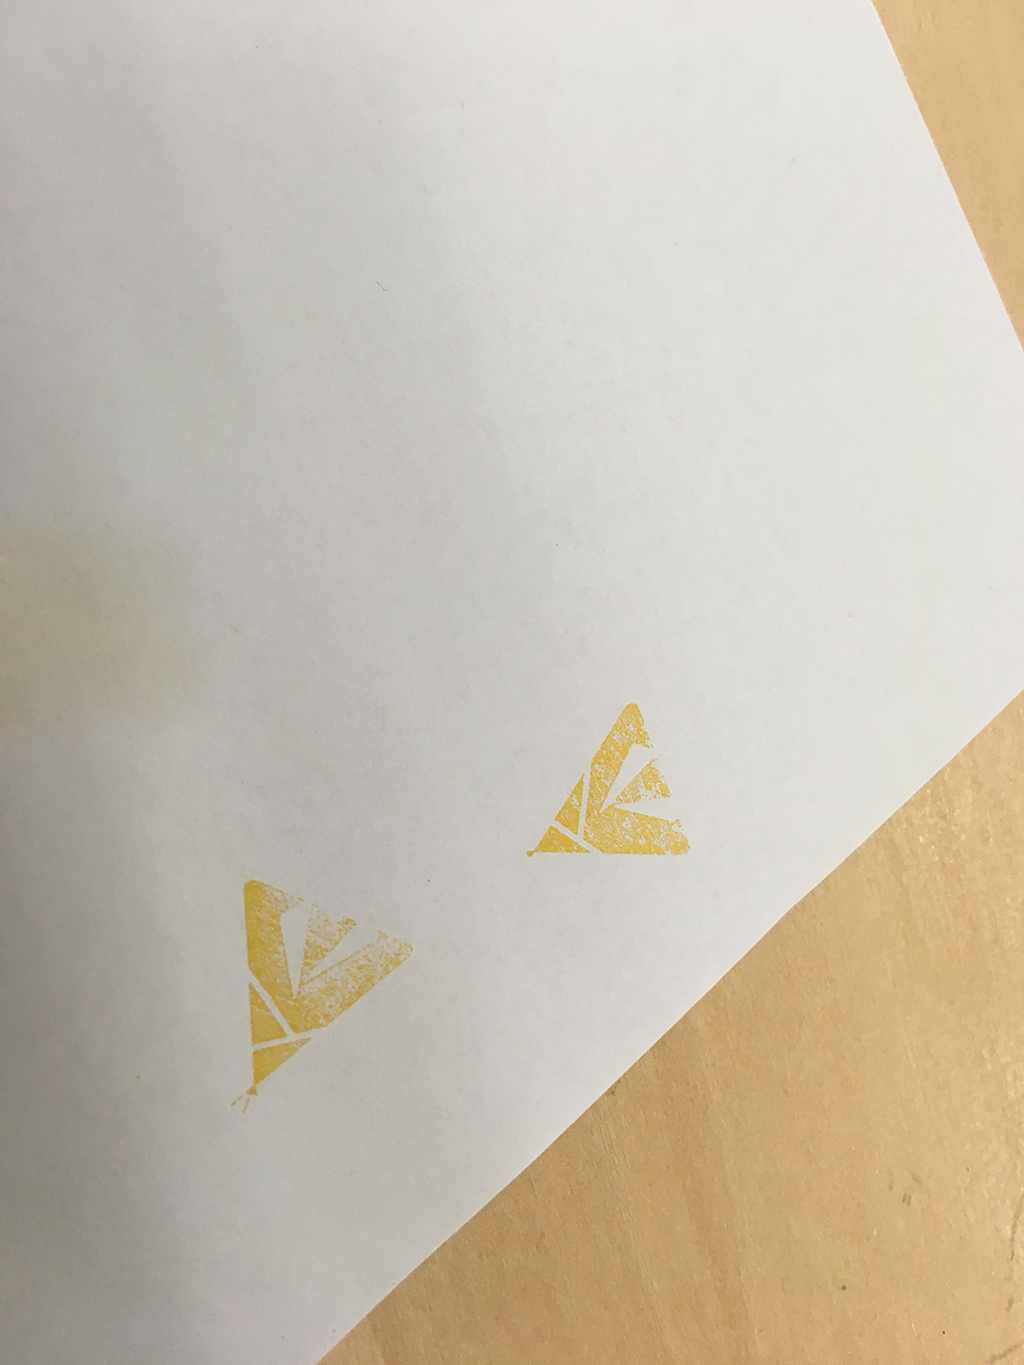tent: (217, 869, 425, 1129), (504, 686, 709, 873)
